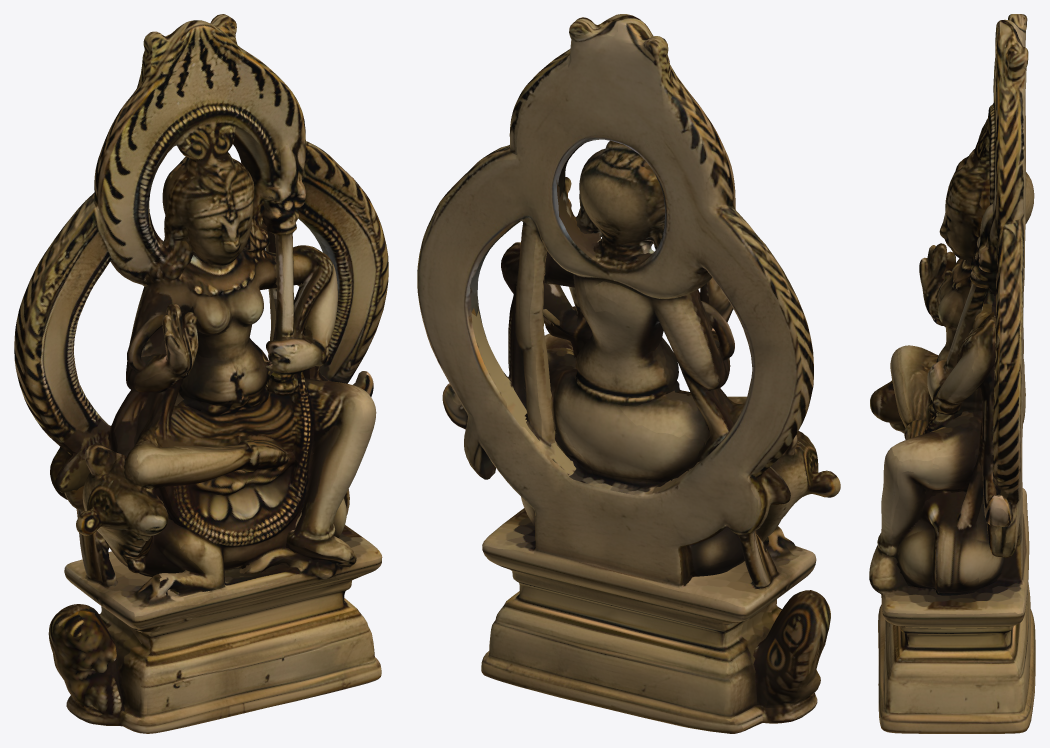
The picture shows the model from 3 angles, left to right: view 1: azimuth 30°, elevation 25°; view 2: azimuth 150°, elevation 25°; view 3: azimuth 270°, elevation 25°; orthographic projection. The views are drawn at different scales.
Visible parts, largest first — view 1: textured_mesh; view 2: textured_mesh; view 3: textured_mesh.
Boxes of the visible parts, box(x1,y1,x2,y2) form: textured_mesh: box(14, 14, 388, 733); textured_mesh: box(417, 14, 840, 733); textured_mesh: box(869, 14, 1035, 733).
Bounding box in the file's own units: 1.19 × 1.99 × 0.4628.
Materials: 1 (1 with a texture image).
